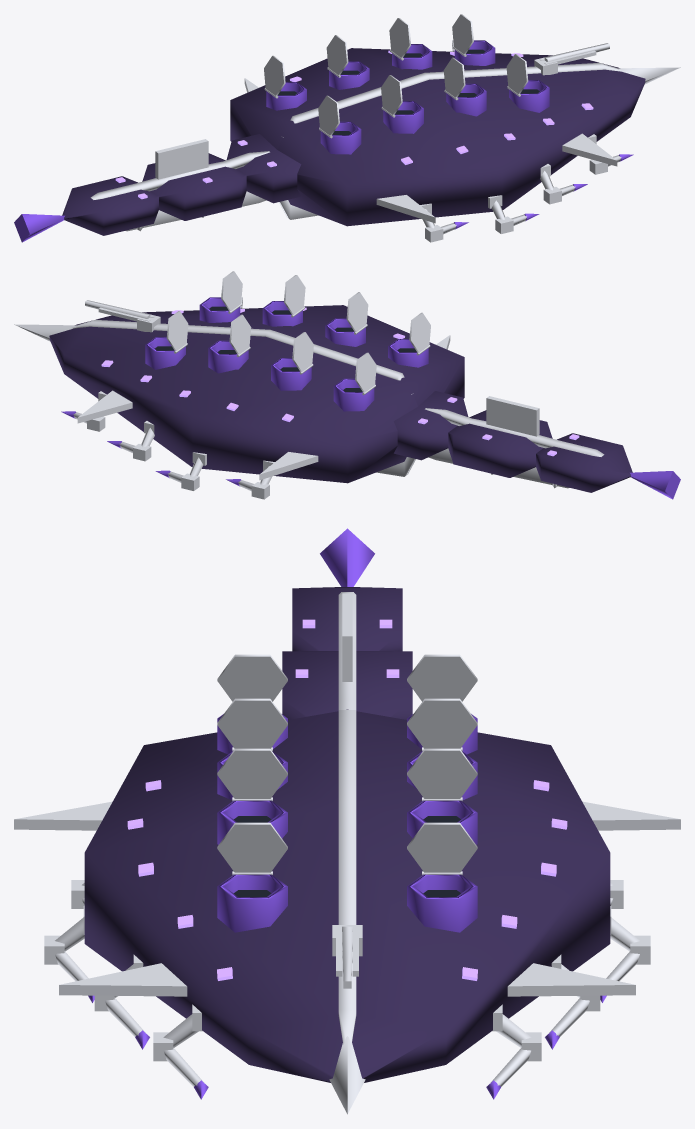
The model's file is thurible-hadron.glb.
The picture shows the model from 3 angles, top to bottom: view 1: azimuth 30°, elevation 25°; view 2: azimuth 150°, elevation 25°; view 3: azimuth 270°, elevation 25°; orthographic projection. The views are drawn at different scales.
Parts seen in each view (by area): view 1: shield, segment_1, segment_2, segment_0, spine_fore, dorsal_fin, spine_aft, cell_3_s_collar, cell_2_s_collar, cell_0_s_collar, cell_1_s_collar, keel (+17 smaller); view 2: shield, segment_1, segment_2, segment_0, spine_fore, dorsal_fin, spine_aft, cell_3_p_collar, cell_2_p_collar, cell_0_p_collar, cell_1_p_collar, keel (+17 smaller); view 3: shield, segment_1, segment_2, spine_fore, cell_0_s_collar, cell_0_p_collar, rim_blade_0_s, rim_blade_0_p, cell_0_s_lid, cell_0_p_lid, cell_1_s_lid, cell_1_p_lid (+12 smaller).
Boxes of the visible parts, x1,y1,x2,y2 form: shield: [230, 48, 645, 226]; segment_1: [142, 153, 246, 220]; segment_2: [62, 176, 158, 235]; segment_0: [226, 134, 301, 203]; spine_fore: [281, 62, 623, 137]; dorsal_fin: [155, 139, 208, 179]; spine_aft: [90, 151, 269, 199]; cell_3_s_collar: [320, 121, 361, 154]; cell_2_s_collar: [383, 101, 423, 133]; cell_0_s_collar: [509, 80, 549, 112]; cell_1_s_collar: [446, 83, 486, 116]; keel: [125, 191, 318, 231]; shield: [49, 305, 464, 483]; segment_1: [448, 410, 552, 477]; segment_2: [536, 433, 632, 492]; segment_0: [393, 391, 468, 460]; spine_fore: [71, 319, 413, 394]; dorsal_fin: [486, 396, 539, 436]; spine_aft: [425, 408, 604, 456]; cell_3_p_collar: [333, 378, 374, 411]; cell_2_p_collar: [271, 358, 311, 390]; cell_0_p_collar: [145, 337, 185, 369]; cell_1_p_collar: [208, 340, 248, 373]; keel: [376, 448, 569, 488]; shield: [84, 709, 610, 1082]; segment_1: [282, 651, 412, 719]; segment_2: [292, 587, 402, 651]; spine_fore: [338, 710, 356, 1044]; cell_0_s_collar: [217, 874, 287, 932]; cell_0_p_collar: [407, 874, 477, 932]; rim_blade_0_s: [59, 963, 187, 996]; rim_blade_0_p: [507, 963, 635, 996]; cell_0_s_lid: [217, 822, 287, 872]; cell_0_p_lid: [407, 822, 477, 872]; cell_1_s_lid: [217, 748, 287, 798]; cell_1_p_lid: [407, 748, 477, 798].
Bounding box in the file's own units: 105 × 23.88 × 52.77.
